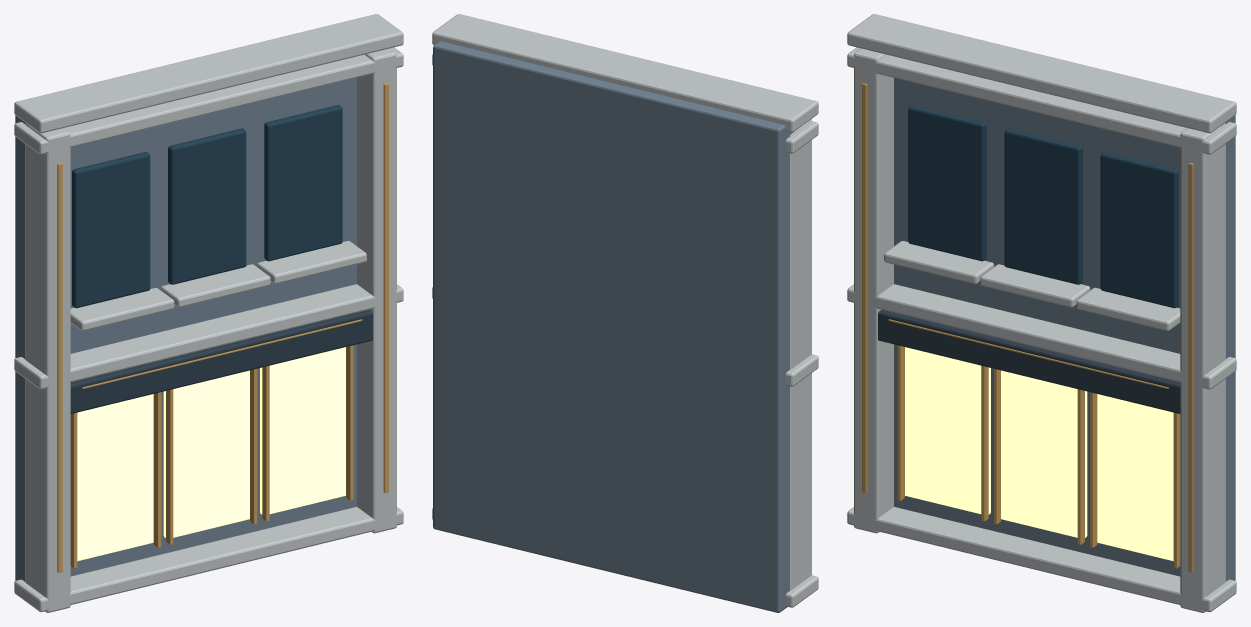
File: SM_Facade.fbx
3 renders of one model, left to right at view 1: azimuth 30°, elevation 25°; view 2: azimuth 150°, elevation 25°; view 3: azimuth 330°, elevation 25°, orthographic.
Parts seen in each view (by area): view 1: SM_Facade; view 2: SM_Facade; view 3: SM_Facade.
Part boxes in pixels (bbox=[...]): SM_Facade: bbox=[14, 14, 403, 612]; SM_Facade: bbox=[432, 14, 818, 612]; SM_Facade: bbox=[847, 14, 1236, 612].
Bounding box in the file's own units: 625 × 107 × 811.
